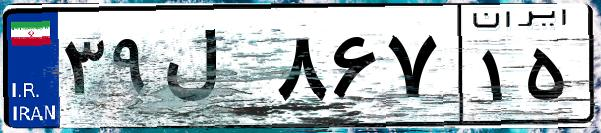1: (475, 38, 525, 113)
3: (57, 26, 110, 100)
5: (525, 38, 570, 115)
6: (330, 28, 385, 110)
7: (385, 28, 445, 110)
8: (270, 28, 330, 110)
9: (110, 28, 158, 98)
ل: (158, 20, 270, 120)
